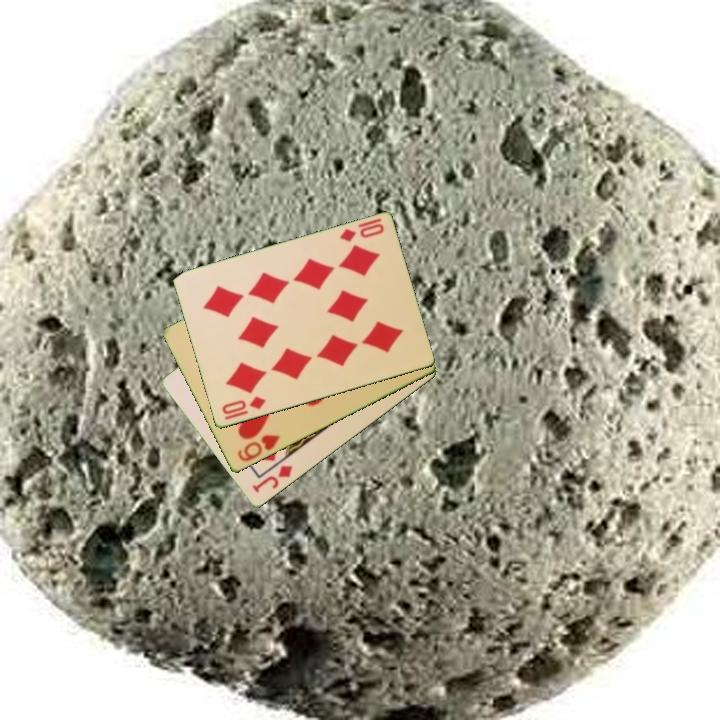10d: (336, 215, 387, 245), (218, 393, 269, 418)
6h: (234, 431, 283, 465)
Jd: (249, 462, 296, 496)
